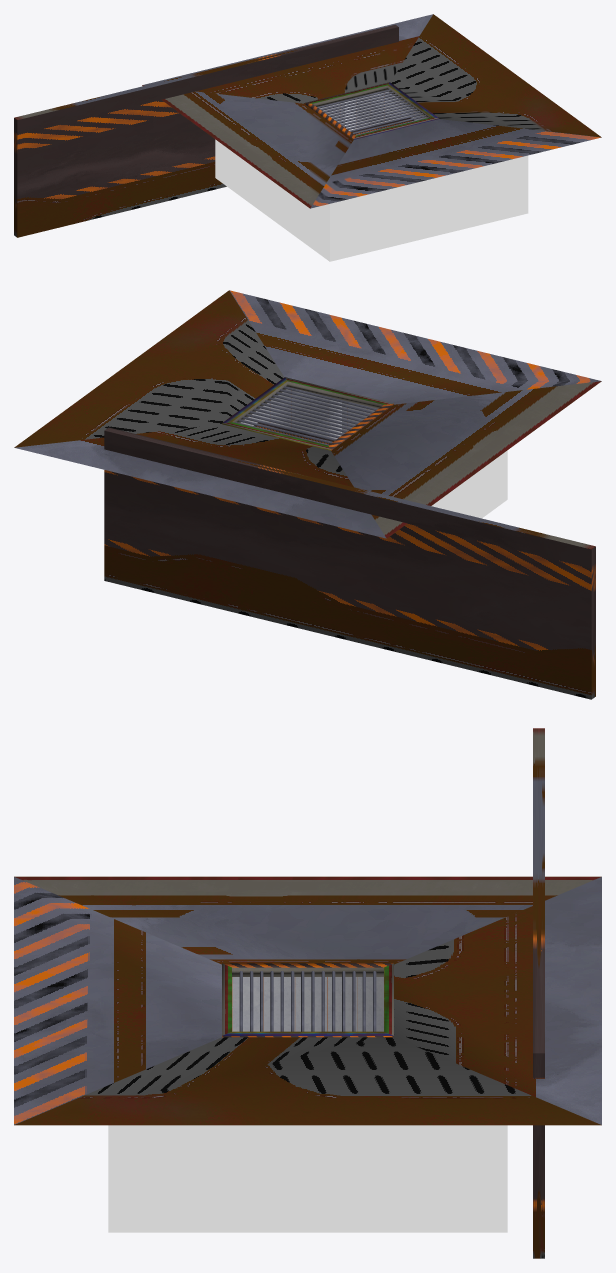
Rendered from Unity.glb.
The picture shows the model from 3 angles, top to bottom: view 1: azimuth 30°, elevation 25°; view 2: azimuth 150°, elevation 25°; view 3: azimuth 270°, elevation 25°; orthographic projection. The views are drawn at different scales.
Visible parts, largest first — view 1: Roof.002; view 2: Roof.002; view 3: Roof.002.
Boxes of the visible parts, box(x1,y1,x2,y2) form: Roof.002: box(14, 14, 601, 261); Roof.002: box(14, 290, 601, 699); Roof.002: box(14, 728, 601, 1258).
Bounding box in the file's own units: 47.4 × 12.23 × 31.74.
Materials: 6 (5 with a texture image).
